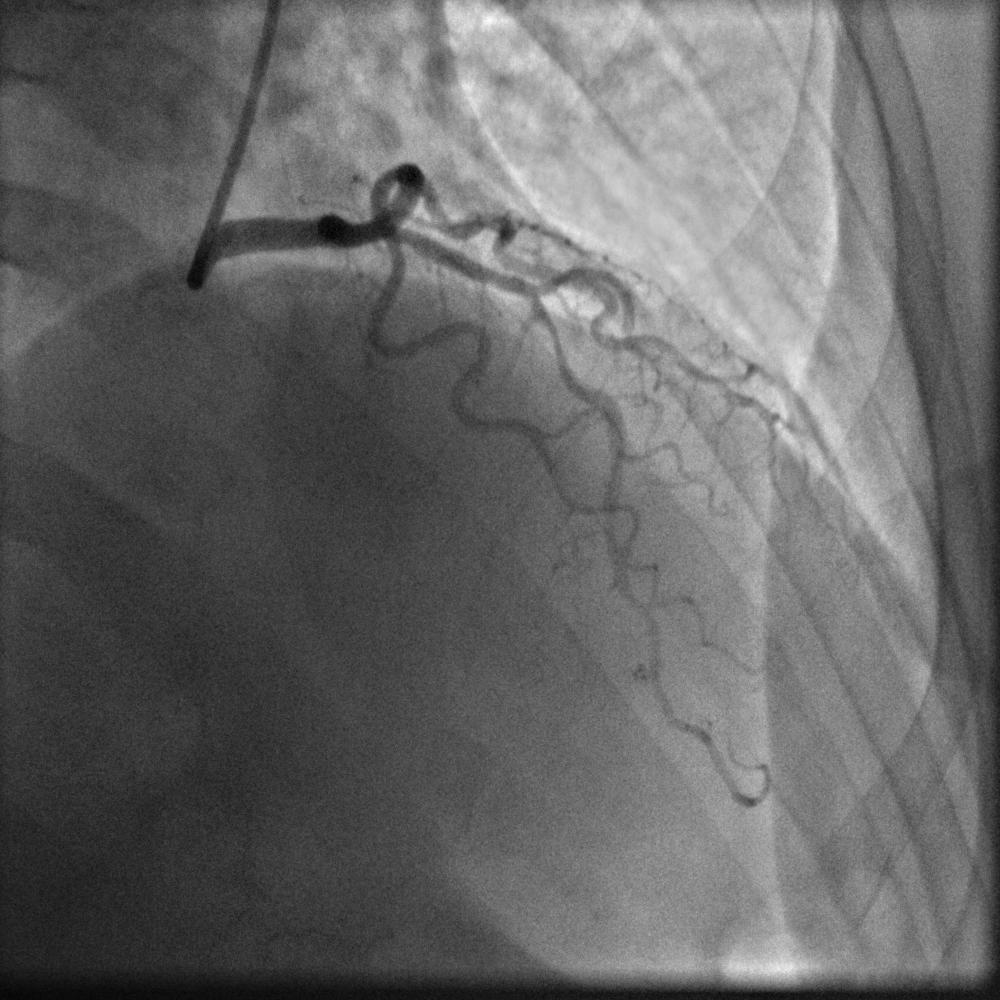Stenosis: (533, 300, 576, 380)
